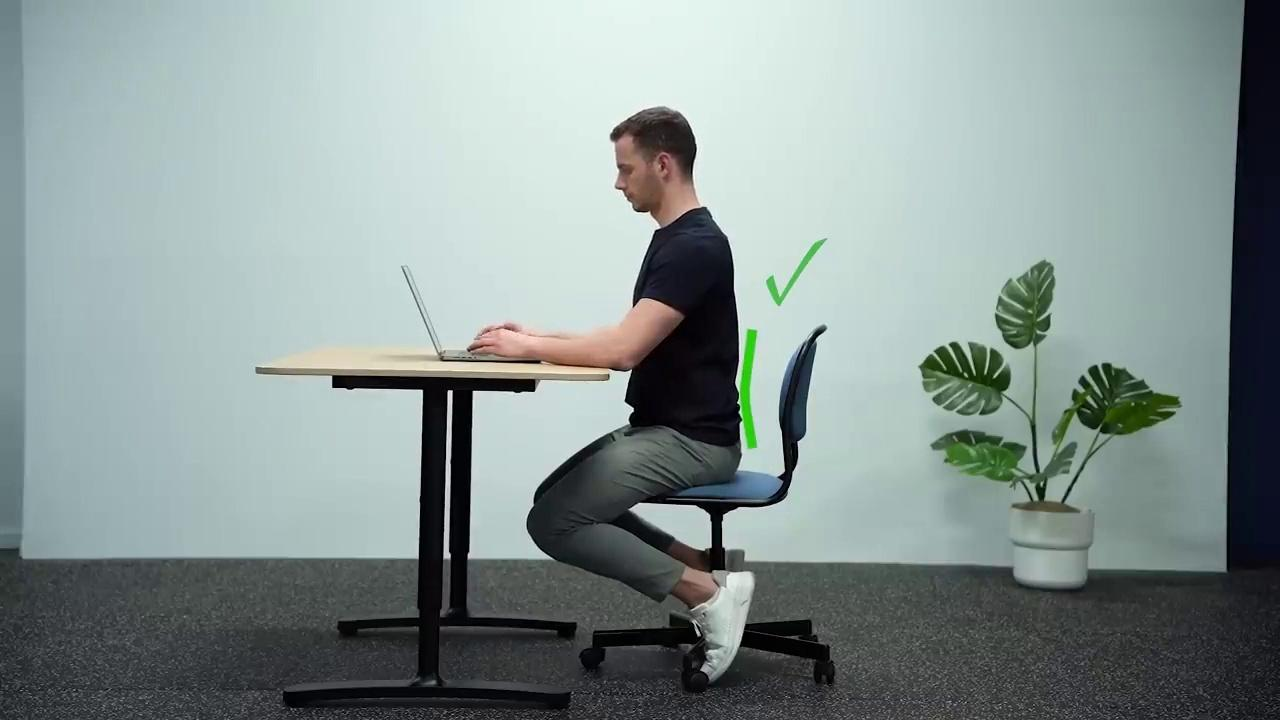GoodPosture: (527, 107, 753, 682)
